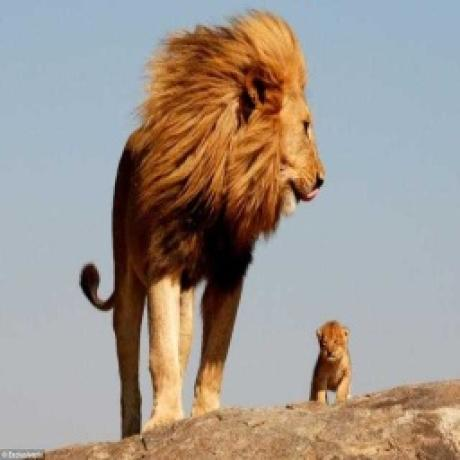Lion: (76, 11, 330, 438), (308, 321, 352, 406)
